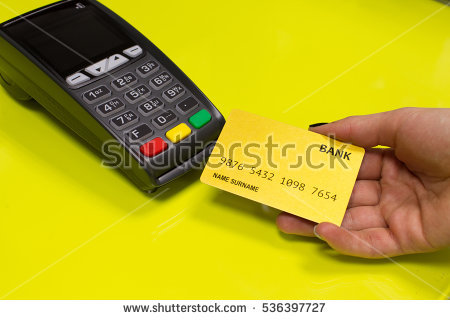tarjeta: (199, 107, 367, 230)
